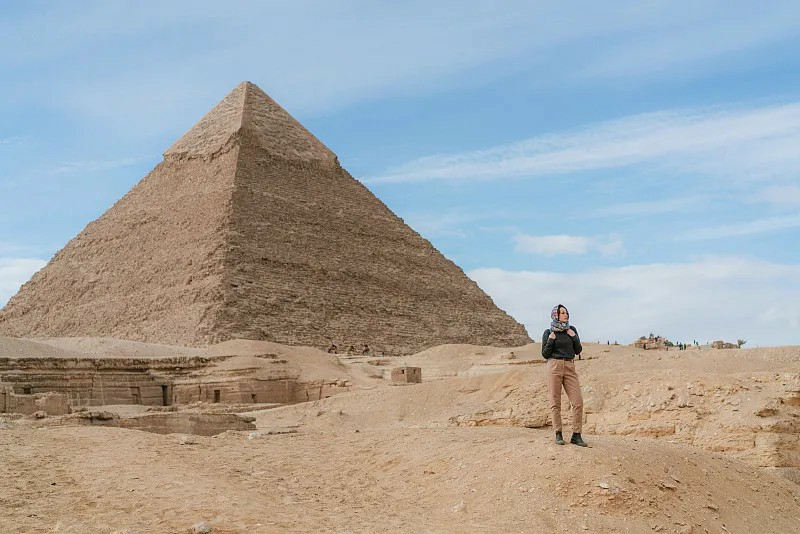Pyramid: (2, 82, 535, 353)
